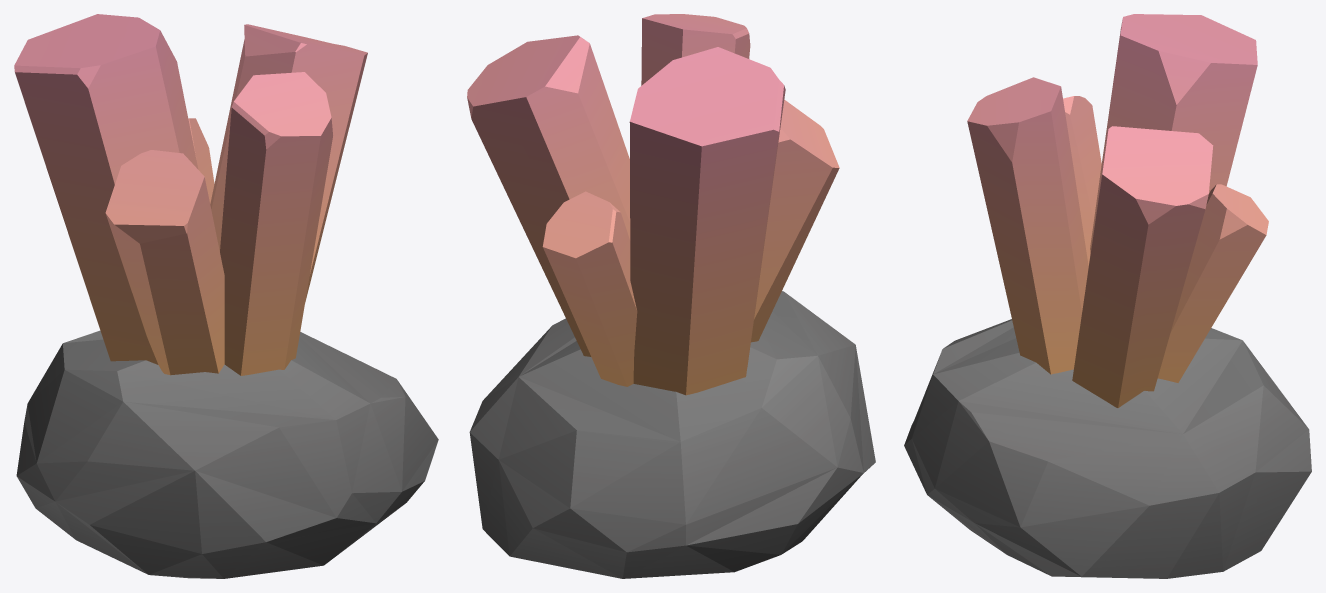
Rendered from Phiras.glb.
3 views of the same model, side by side, from view 1: azimuth 30°, elevation 25°; view 2: azimuth 150°, elevation 25°; view 3: azimuth 270°, elevation 25° (orthographic). The views are drawn at different scales.
Visible parts, largest first — view 1: crystal_basalt_green.036_SimplePolygonPalette_0; view 2: crystal_basalt_green.036_SimplePolygonPalette_0; view 3: crystal_basalt_green.036_SimplePolygonPalette_0.
Boxes of the visible parts, x1,y1,x2,y2 form: crystal_basalt_green.036_SimplePolygonPalette_0: (14,14,438,578); crystal_basalt_green.036_SimplePolygonPalette_0: (467,14,875,578); crystal_basalt_green.036_SimplePolygonPalette_0: (904,14,1311,578).
Bounding box in the file's own units: 1.81 × 2.32 × 1.88.
1 material, 1 textured.
